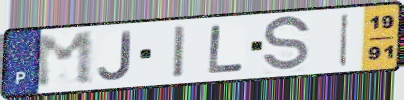I: (172, 23, 188, 80), (337, 12, 352, 69)
J: (96, 29, 133, 82)
L: (206, 23, 247, 75)
M: (32, 30, 96, 90)
S: (260, 13, 313, 75)
